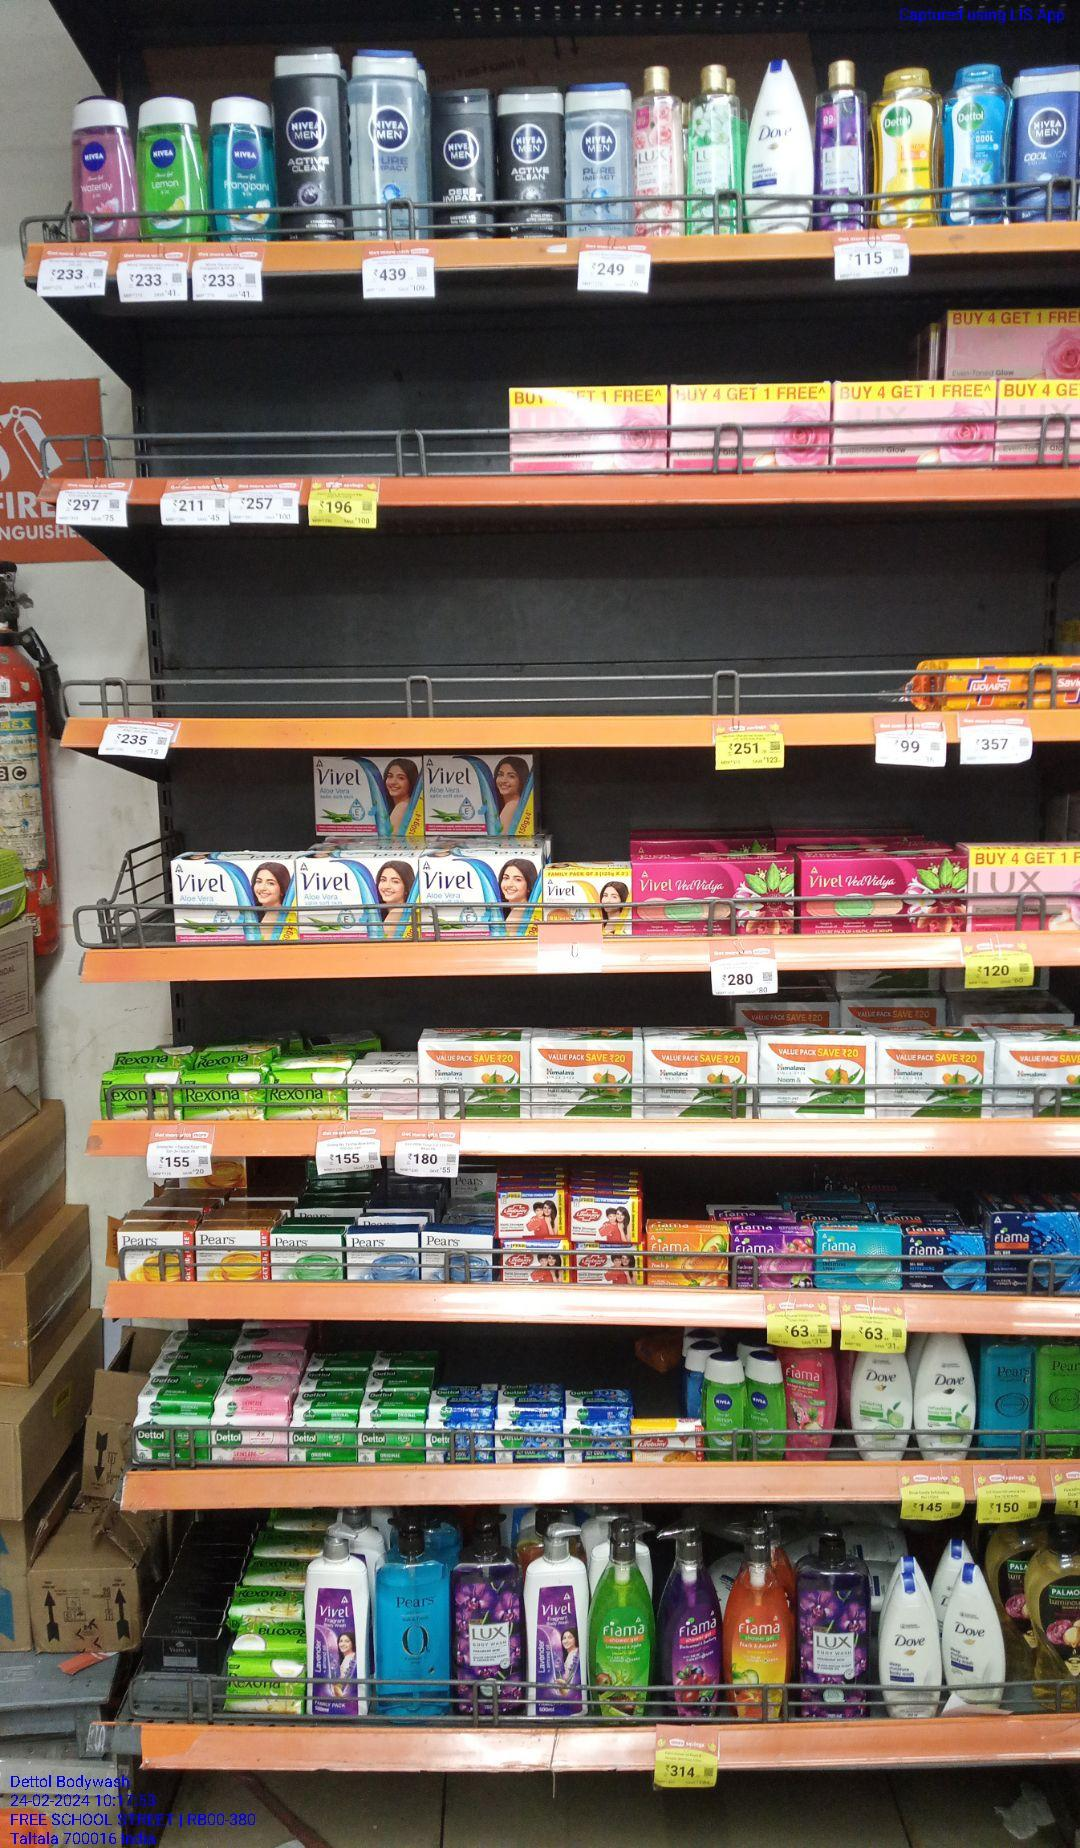Dettol_Bodywash_Cool: (948, 66, 1012, 222)
Dettol_Bodywash_Refresh: (876, 68, 942, 222)
Dove_Deep_Moisture_Body_Wash_250ML: (746, 60, 814, 231), (879, 1576, 942, 1716), (948, 1572, 1005, 1707)
Dove_Refreshing_Body_Wash_250ML: (914, 1339, 975, 1460)
Fiama_Shower_Gel_Patchouli_and_Macadamia_250ML: (786, 1344, 837, 1456)
Lux_Black_Orchid_Scent_and_Juniper_Oil_Body_Wash_245ML: (814, 60, 867, 230)
Lux_Body_Wash_Skin_Detox_Freesia_Scent_and_Alove_Vera_245ML: (684, 66, 742, 238)
Nivea_Shower_Gel_Frangipani_and_Oil_250ML: (215, 102, 278, 242)
Nivea_Shower_Gel_Lemon_and_Oil_250ML: (140, 98, 207, 240), (702, 1357, 746, 1453), (747, 1352, 784, 1448)
Nivea_Shower_Gel_Waterlily_and_Oil_250ML: (72, 103, 138, 242)
Pears_Pure_Glycerin_and_Lemon_Flower_Extracts_Body_Wash_250ML: (1036, 1337, 1080, 1447)
Pears_Pure_Glycerin_and_Mint_Extracts_Body_Wash_250ML: (980, 1334, 1032, 1444)
